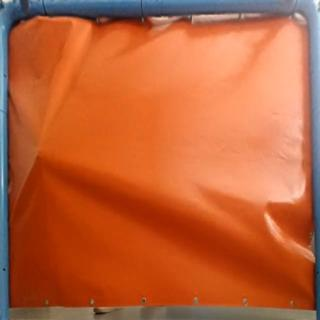Hit-hRxx: (35, 146, 46, 161)
